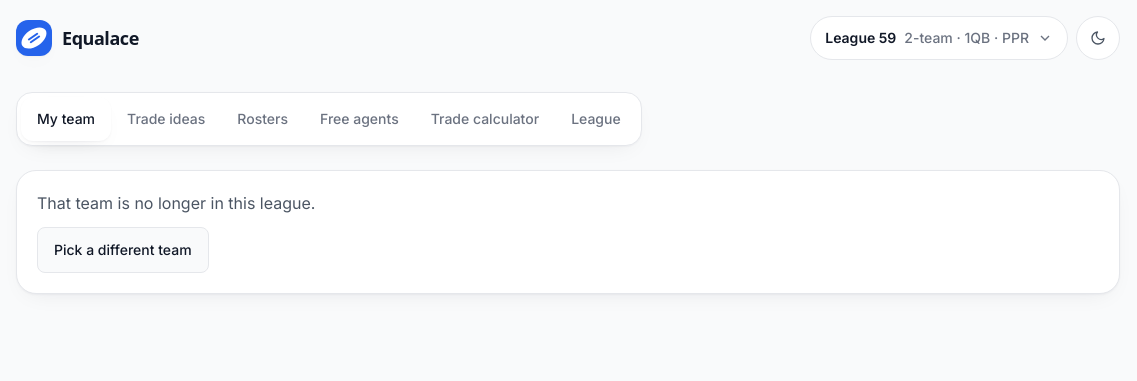
Scenario: App — a league that does not trade › does not pay for the manager walk in a league that shows no offers
Click the tab "Trade ideas".
click(166, 119)  # box [111,97,221,141]
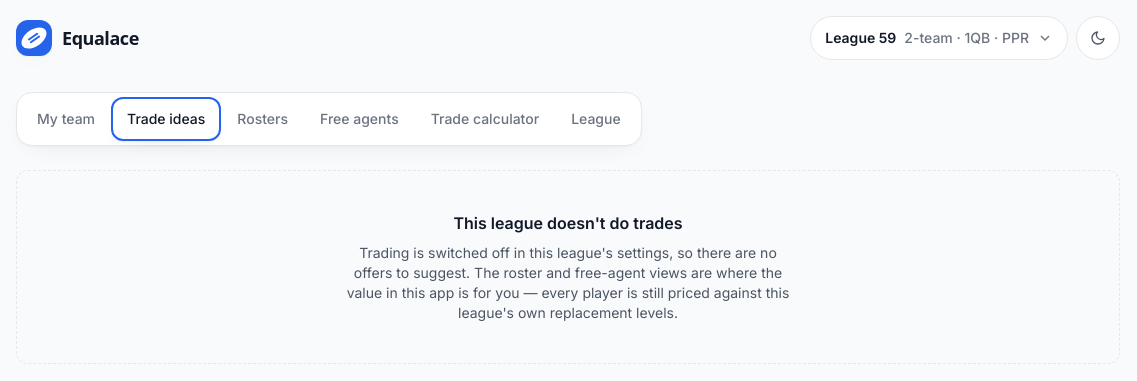
Result: the text "This league doesn't do trades" is shown at [453,213,682,233]
